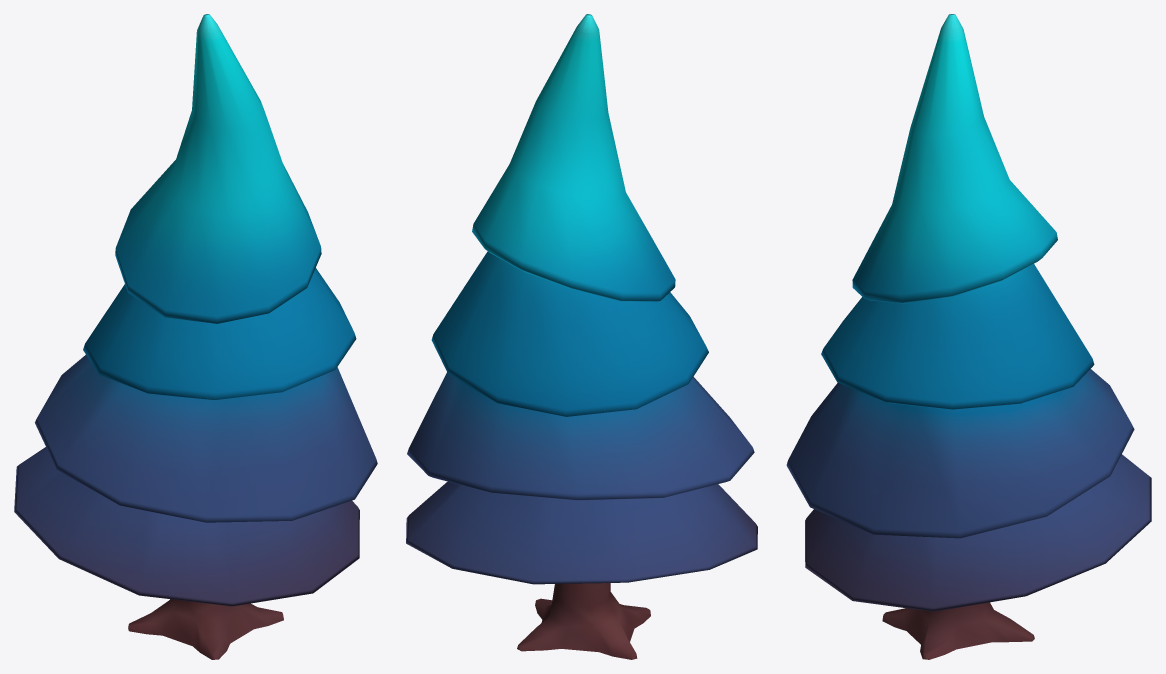
File: arboles11.fbx
3 renders of one model, left to right at view 1: azimuth 30°, elevation 25°; view 2: azimuth 150°, elevation 25°; view 3: azimuth 270°, elevation 25°, orthographic.
Visible parts, largest first — view 1: Tree.015_Base_Material_0.001; view 2: Tree.015_Base_Material_0.001; view 3: Tree.015_Base_Material_0.001.
Part boxes in pixels (x1,y1,x2,y2): Tree.015_Base_Material_0.001: (14,14,377,659); Tree.015_Base_Material_0.001: (406,14,757,659); Tree.015_Base_Material_0.001: (786,14,1151,659).
Bounding box in the file's own units: 302 × 572 × 306.
